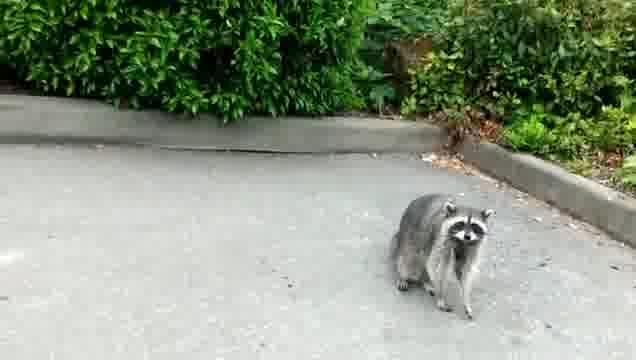raccoon: (386, 190, 495, 320)
